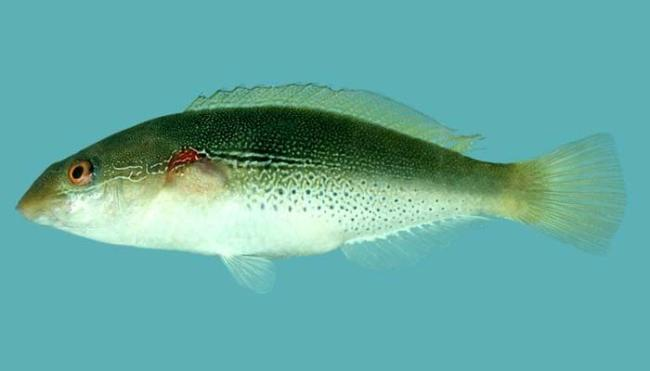fish: (15, 80, 627, 296)
